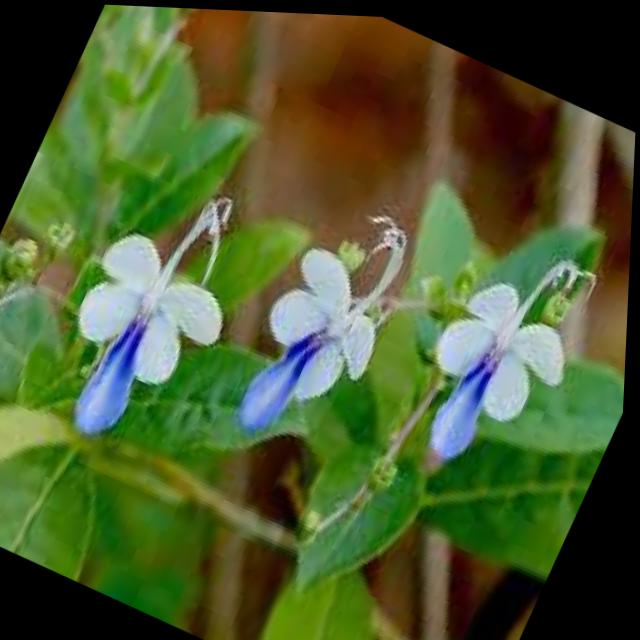Flower: (201, 172, 438, 478), (29, 163, 266, 461), (390, 214, 612, 515)
